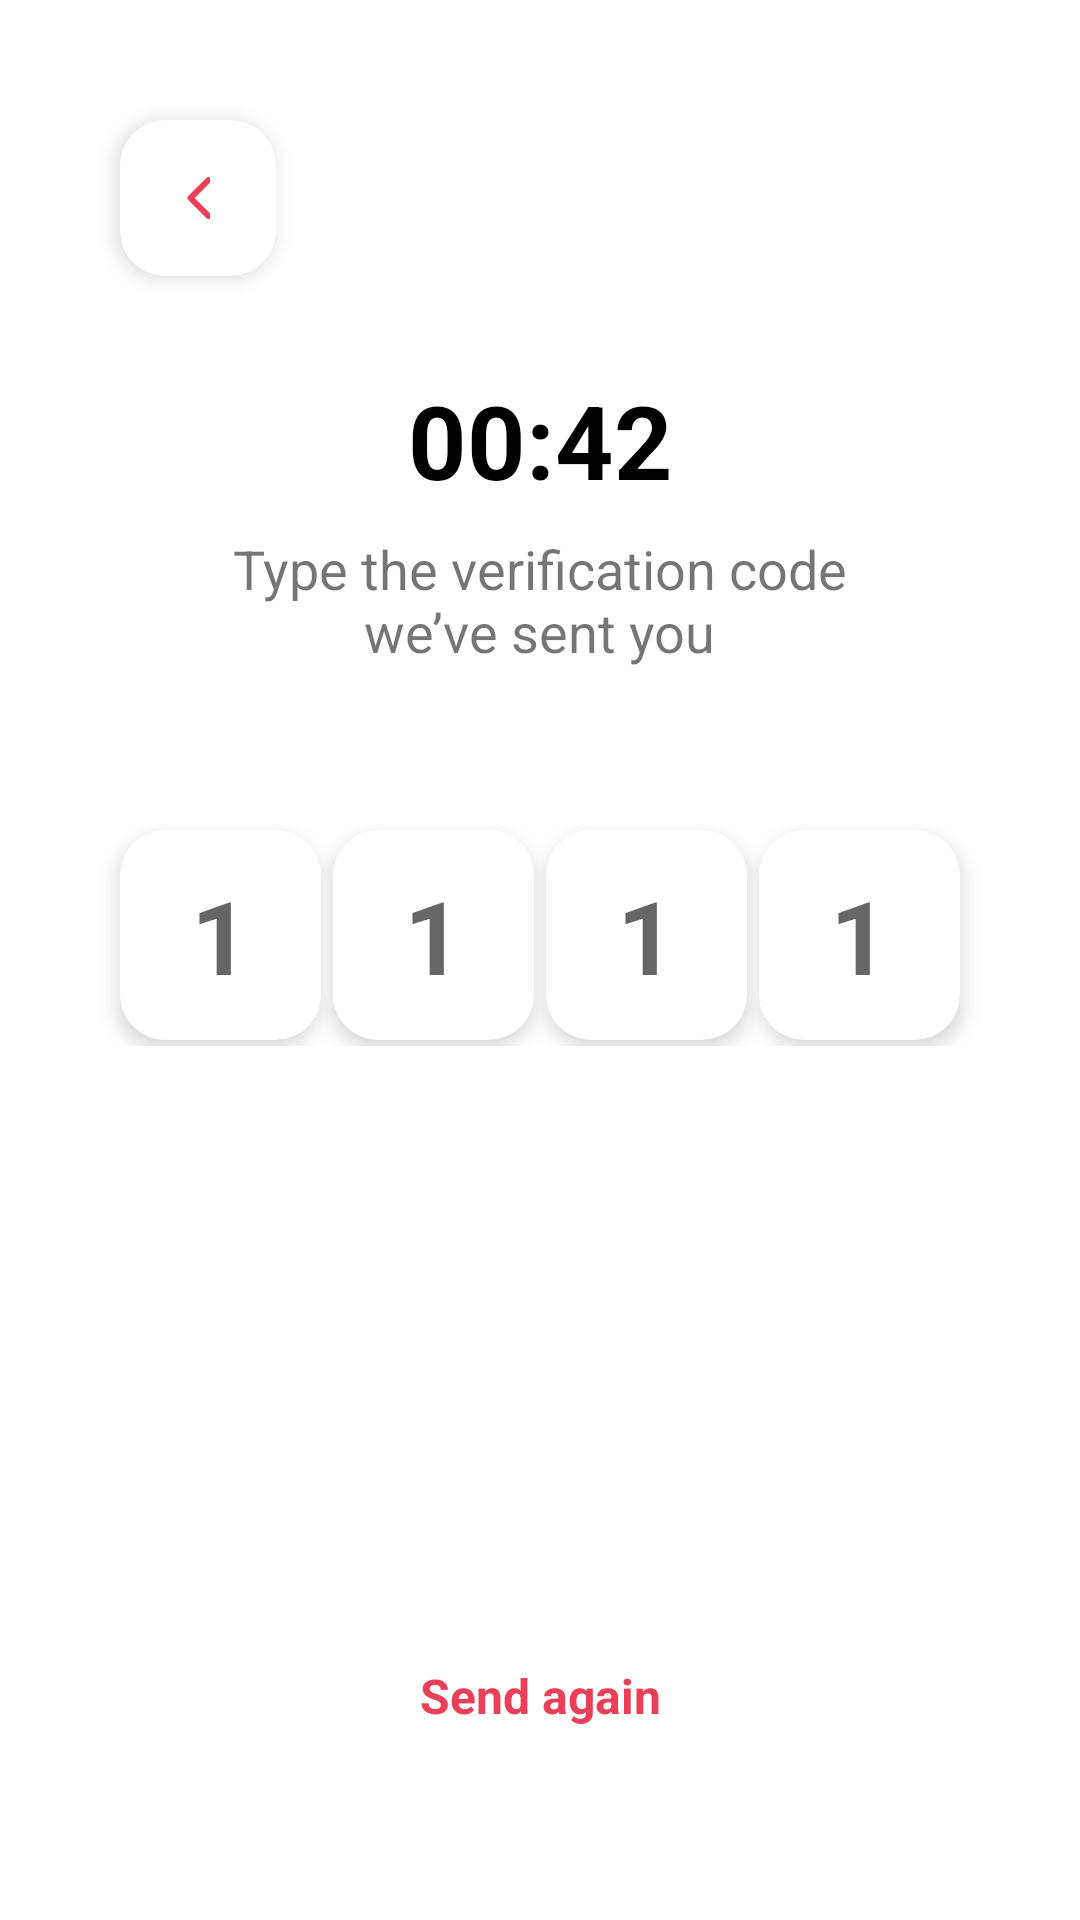

Icons on this 1080*1920 Android screen, each with the point to tap as [x,y]:
backbtn: [198,198]
